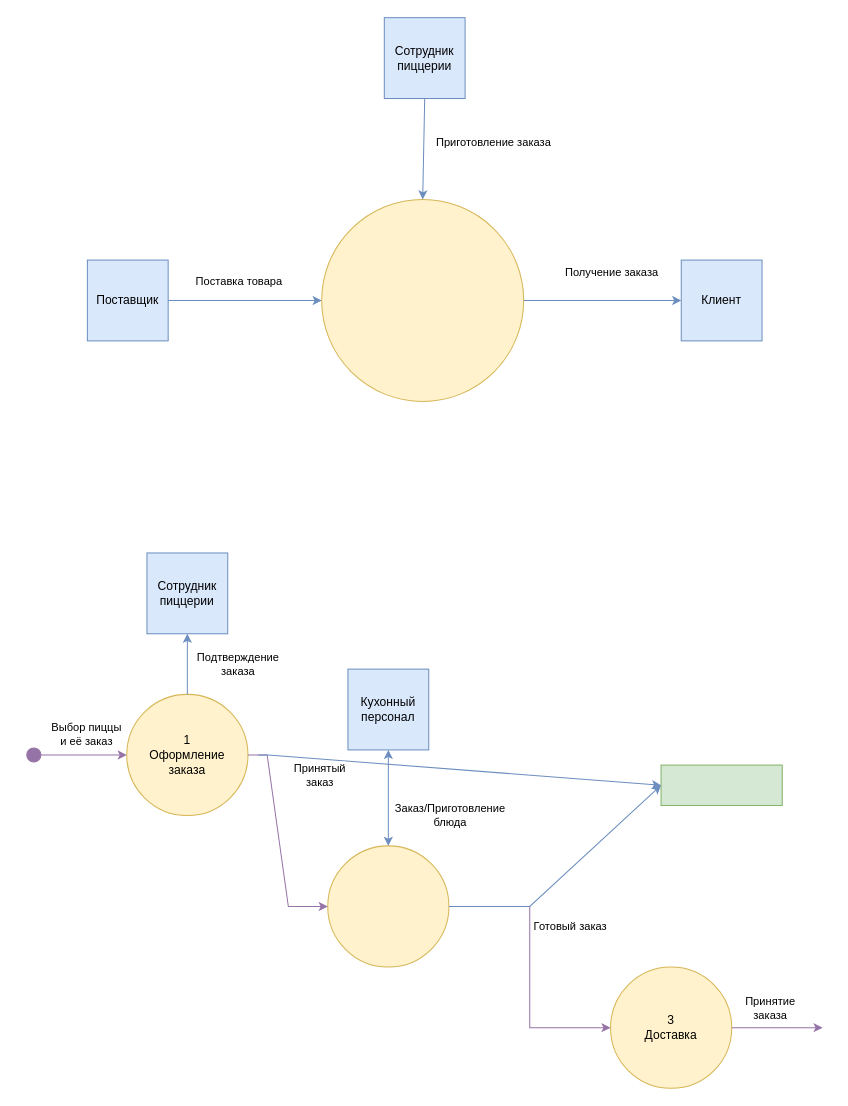
Some shapes in this 848 by 1106 pixel diagram are drawn without their labels. The centre of each missing label's shape, as x and y in pixels:
0 Заказ и доставка пиццы: point 422,299
2 Приготовление пиццы: point 388,906
БД: point 721,784
